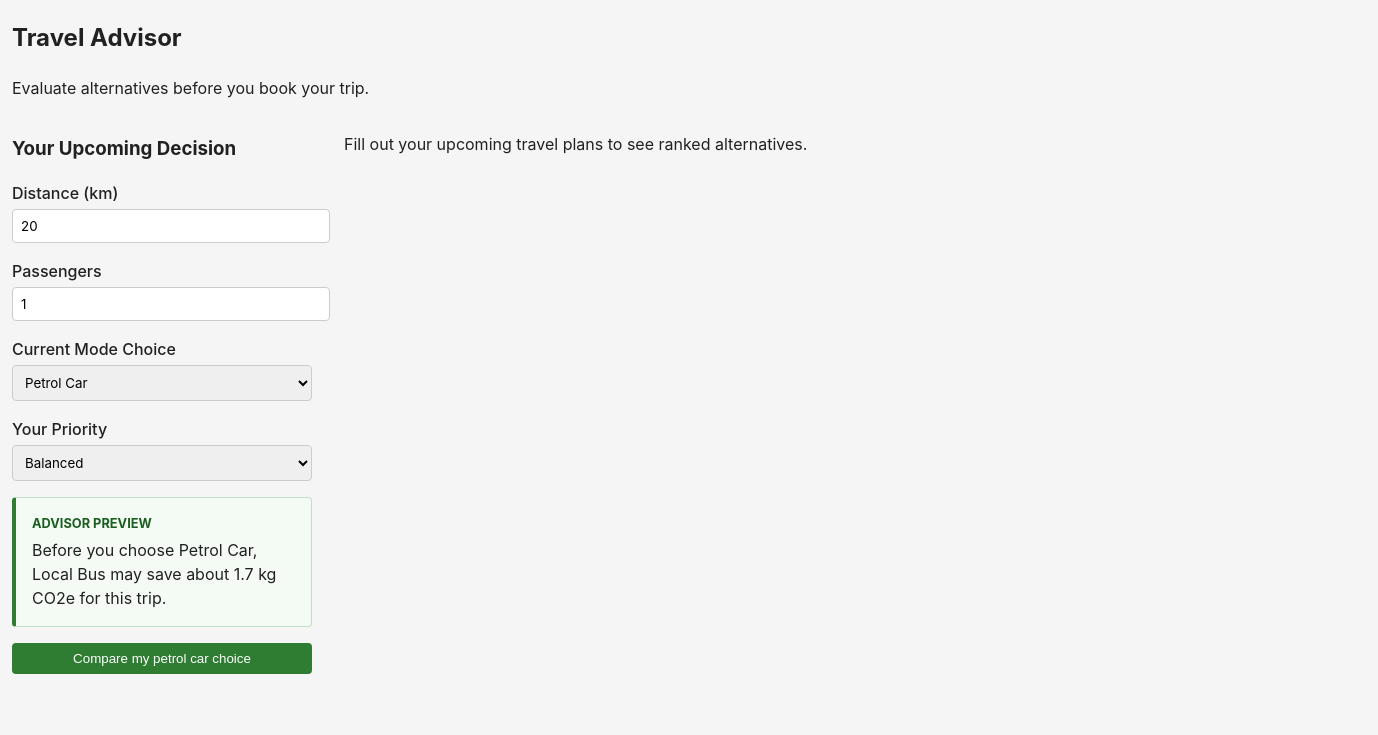
Test: TravelDecisionUI › submits valid input and displays results, assumptions, horizon, and breakdown
Replace the text in the number field labelled "Distance (km)" with "50" at (171, 226), box [12,209,330,243]
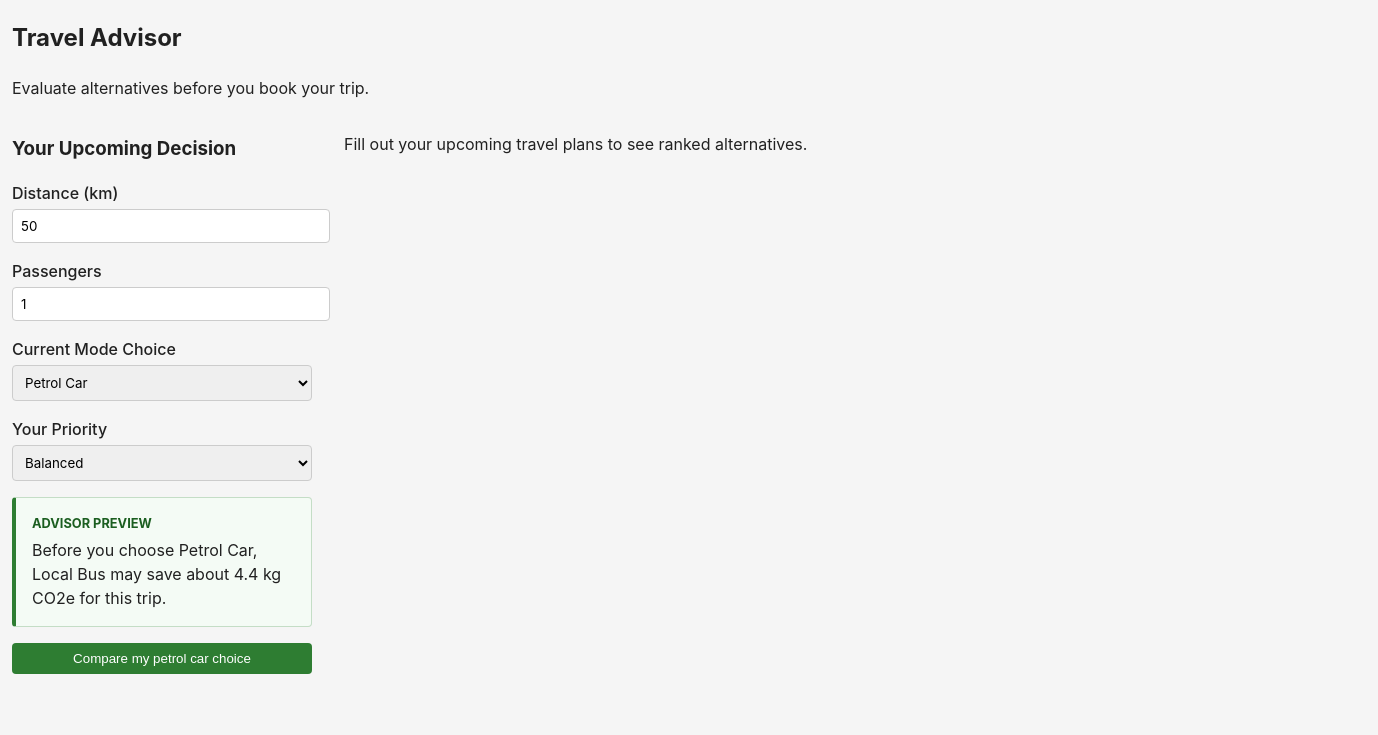
Click the button "Compare my petrol car choice".
click(162, 658)  # box [12,642,312,674]
(page scrolled)
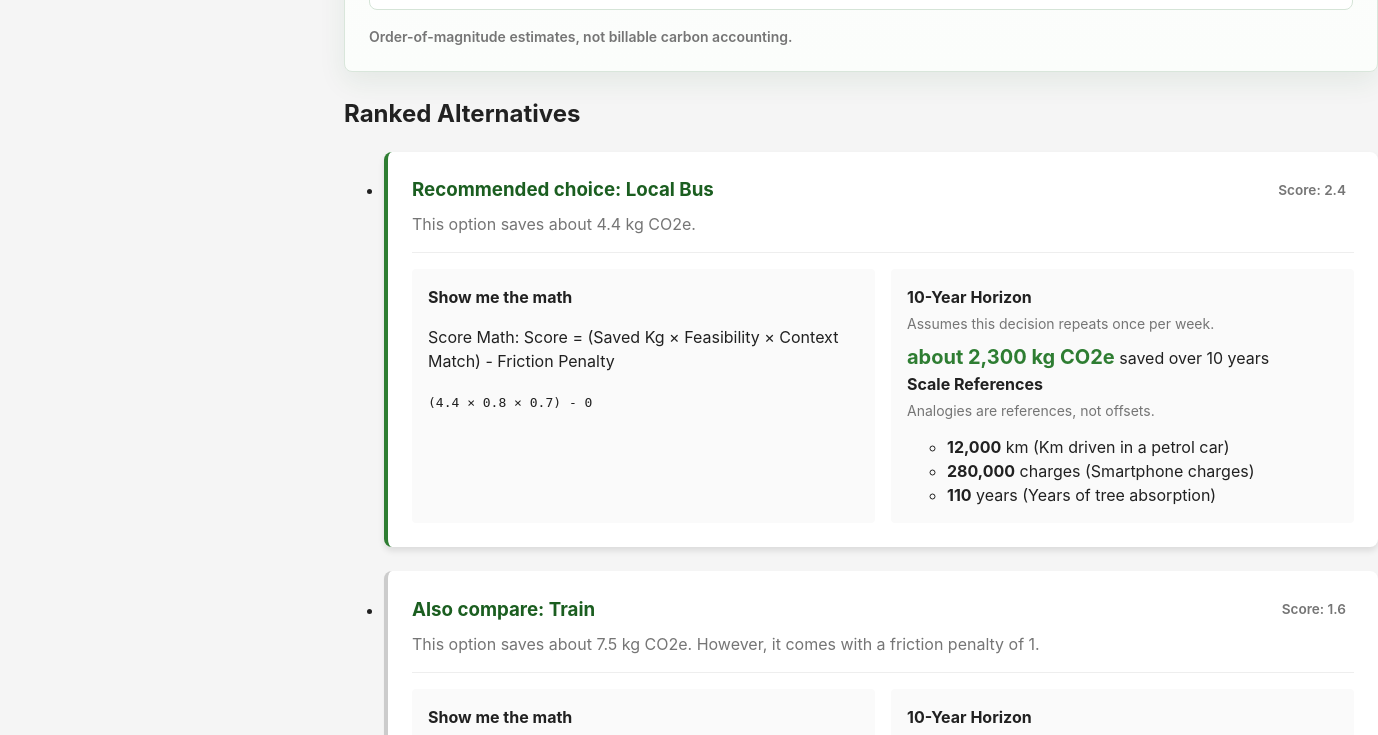
Result: the text "Score: 2.4" is shown at [1278,182,1346,198]
Result: the heading "Show me the math" below "Recommended choice: Local Bus" is shown at [428,287,572,307]
Result: the text "Score = (Saved Kg" below "Recommended choice: Local Bus" is shown at [428,327,838,371]
